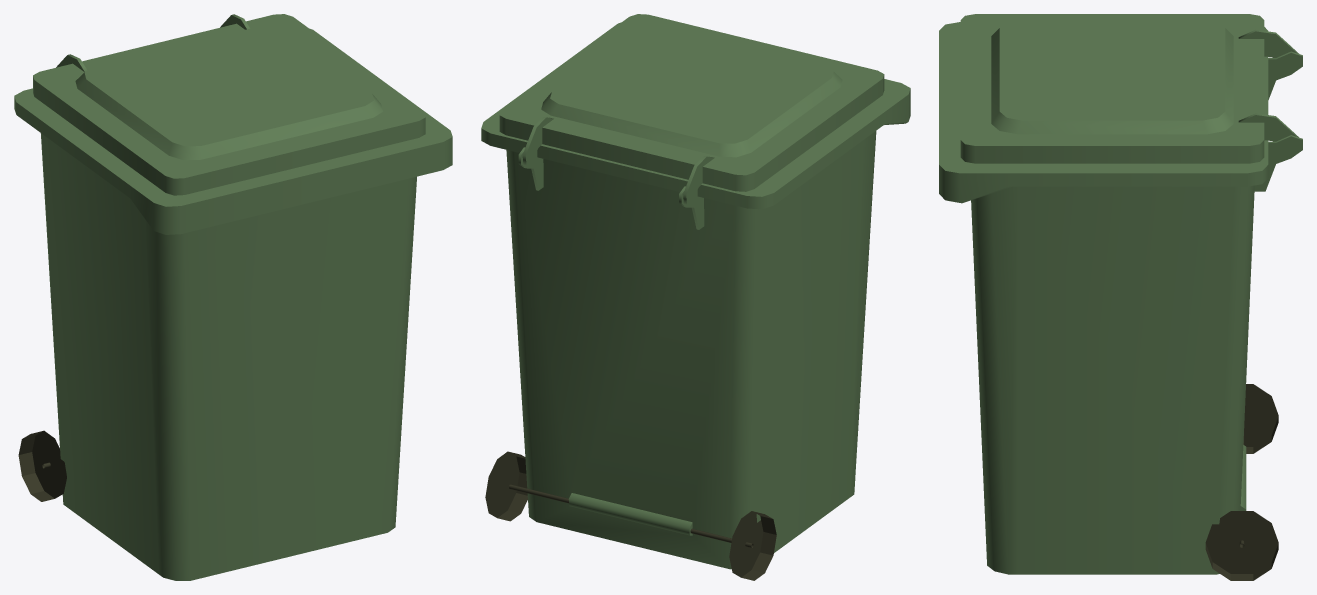
File: StreetTrashCan.fbx
3 renders of one model, left to right at view 1: azimuth 30°, elevation 25°; view 2: azimuth 150°, elevation 25°; view 3: azimuth 270°, elevation 25°, orthographic. The views are drawn at different scales.
Parts seen in each view (by area): view 1: StreetTrashCan; view 2: StreetTrashCan; view 3: StreetTrashCan.
Part boxes in pixels (x1,y1,x2,y2): StreetTrashCan: [14, 14, 452, 580]; StreetTrashCan: [481, 14, 910, 580]; StreetTrashCan: [939, 14, 1302, 580].
Bounding box in the file's own units: 90.11 × 124 × 91.53.
